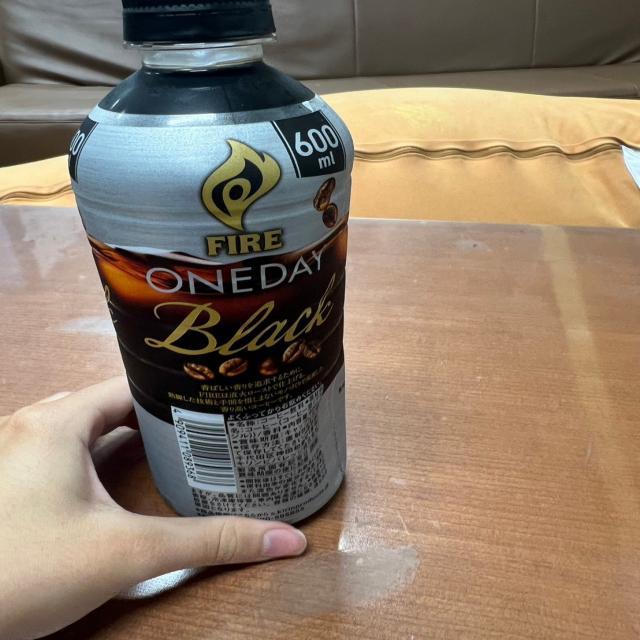coffee-black: (68, 7, 353, 521)
